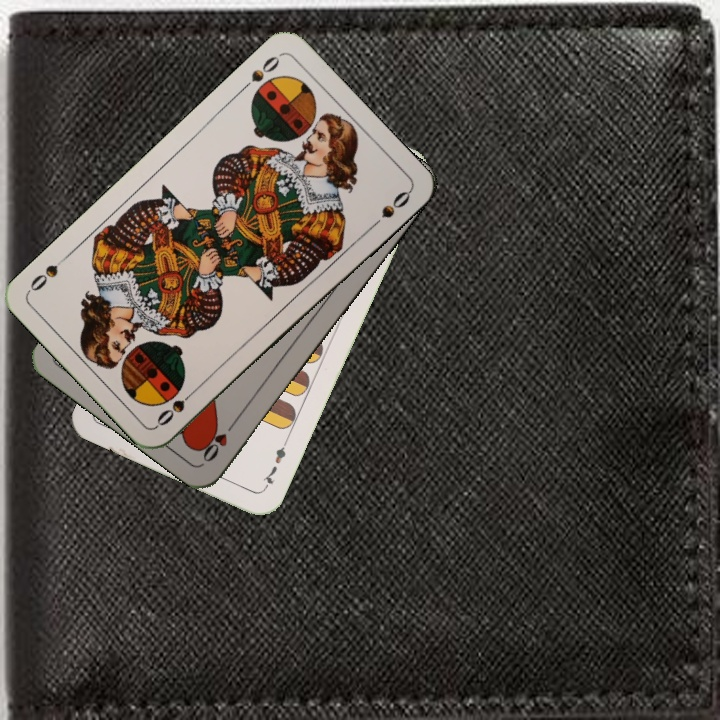E7: (258, 436, 290, 492)
HO: (198, 414, 240, 465)
SO: (152, 384, 200, 429), (236, 52, 282, 95)
